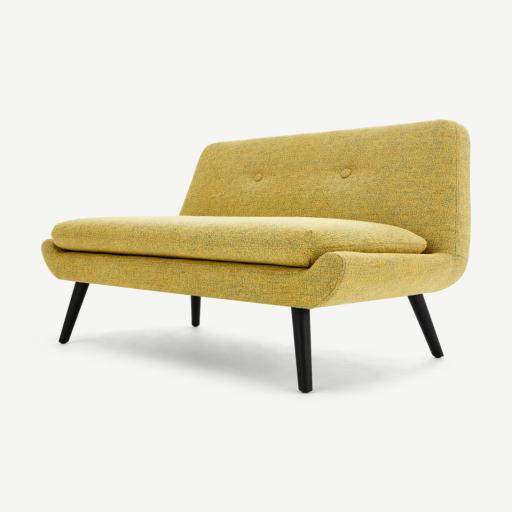back_cushion: (181, 120, 470, 284)
base: (42, 235, 463, 309)
legs: (409, 295, 442, 357), (59, 282, 89, 343), (292, 308, 312, 393), (191, 296, 200, 327)
one-seater: (0, 0, 511, 512)
seat_cushion: (52, 216, 426, 267)
